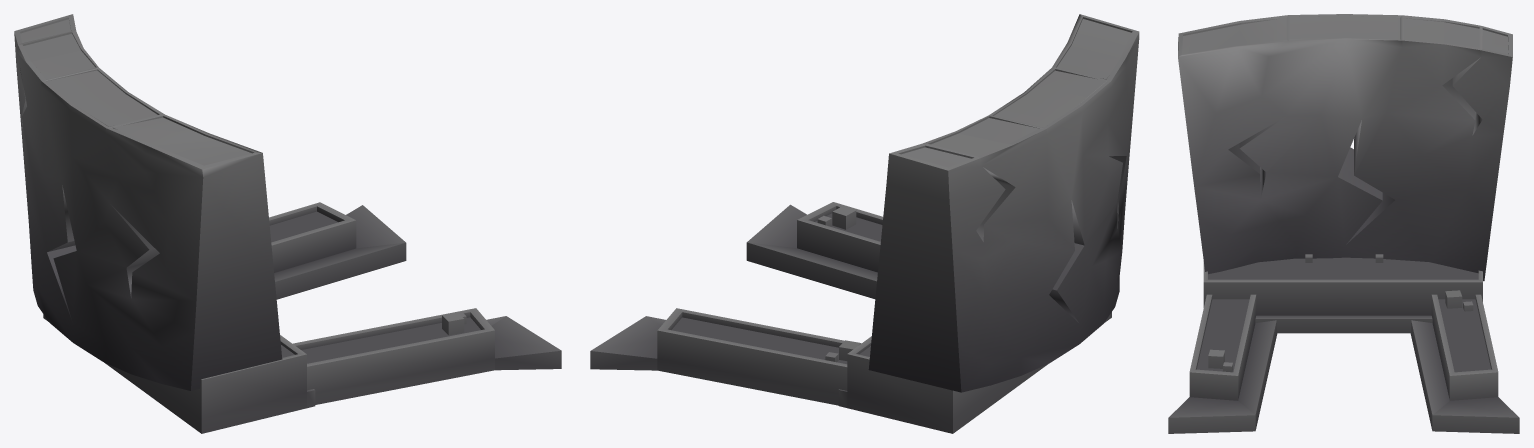
The model's file is SM_Dam_Broken_three_crack.fbx.
The picture shows the model from 3 angles, left to right: view 1: azimuth 30°, elevation 25°; view 2: azimuth 150°, elevation 25°; view 3: azimuth 270°, elevation 25°; orthographic projection. The views are drawn at different scales.
Parts seen in each view (by area): view 1: DamBroken.023, DamBroken.001; view 2: DamBroken.023, DamBroken.001; view 3: DamBroken.023, DamBroken.001.
Boxes of the visible parts, x1,y1,x2,y2 form: DamBroken.023: (14, 14, 282, 390); DamBroken.001: (43, 202, 561, 433); DamBroken.023: (868, 14, 1139, 392); DamBroken.001: (590, 202, 1111, 433); DamBroken.023: (1178, 14, 1512, 281); DamBroken.001: (1168, 254, 1519, 433).
Size of the model in its own units: 2740 by 2413 by 1910.
